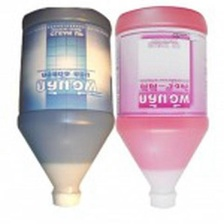insecticide: (15, 3, 118, 210), (111, 4, 212, 211)
